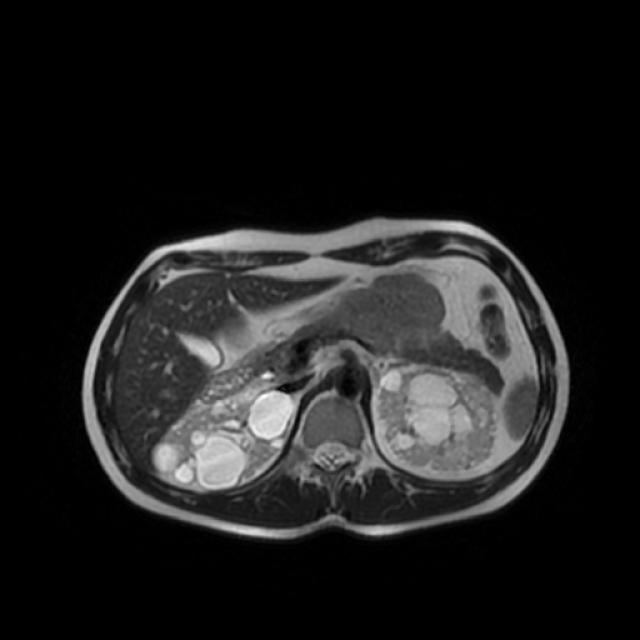sag: (149, 392, 295, 488)
sol: (378, 367, 496, 470)
